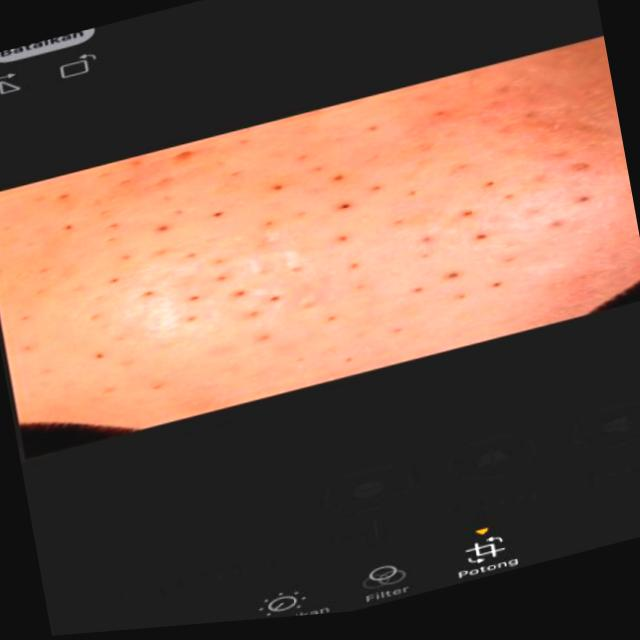blackhead: (97, 137, 618, 366)
